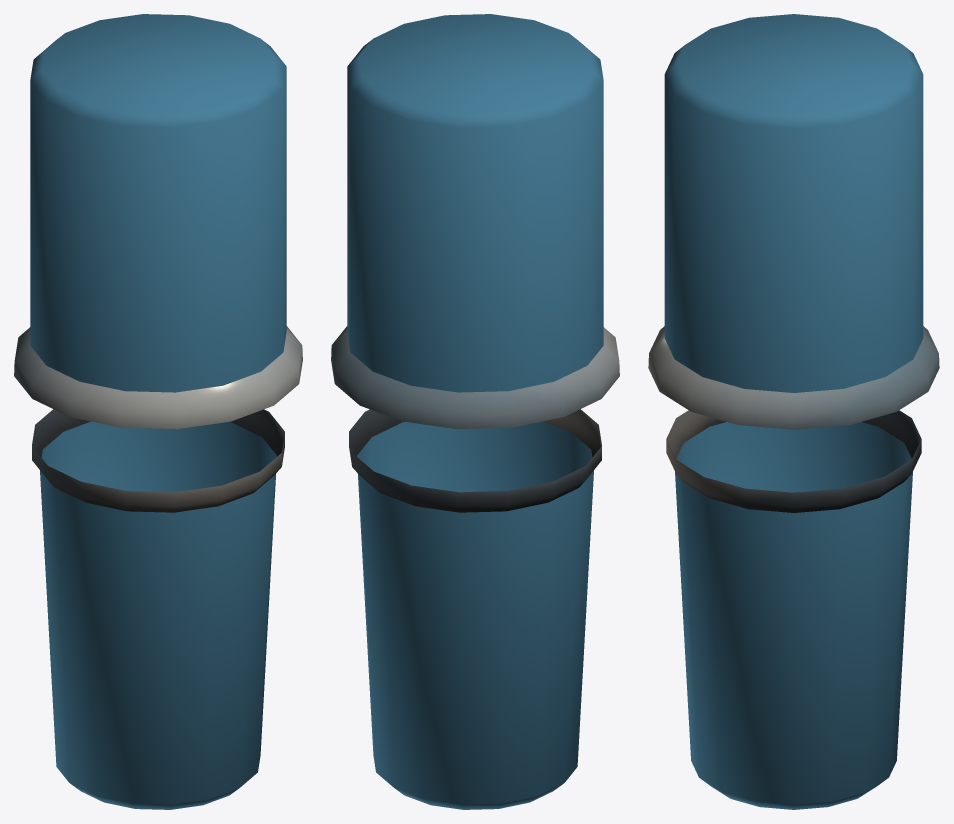
File: machine_o.fbx
The picture shows the model from 3 angles, left to right: view 1: azimuth 30°, elevation 25°; view 2: azimuth 150°, elevation 25°; view 3: azimuth 270°, elevation 25°; orthographic projection.
Parts seen in each view (by area): view 1: Machine_O-material; view 2: Machine_O-material; view 3: Machine_O-material.
Boxes of the visible parts, x1,y1,x2,y2 form: Machine_O-material: (14,14,302,809); Machine_O-material: (331,14,619,809); Machine_O-material: (648,14,939,809).
Size of the model in its own units: 3.36 by 9.01 by 3.36.
1 material, 1 textured.
